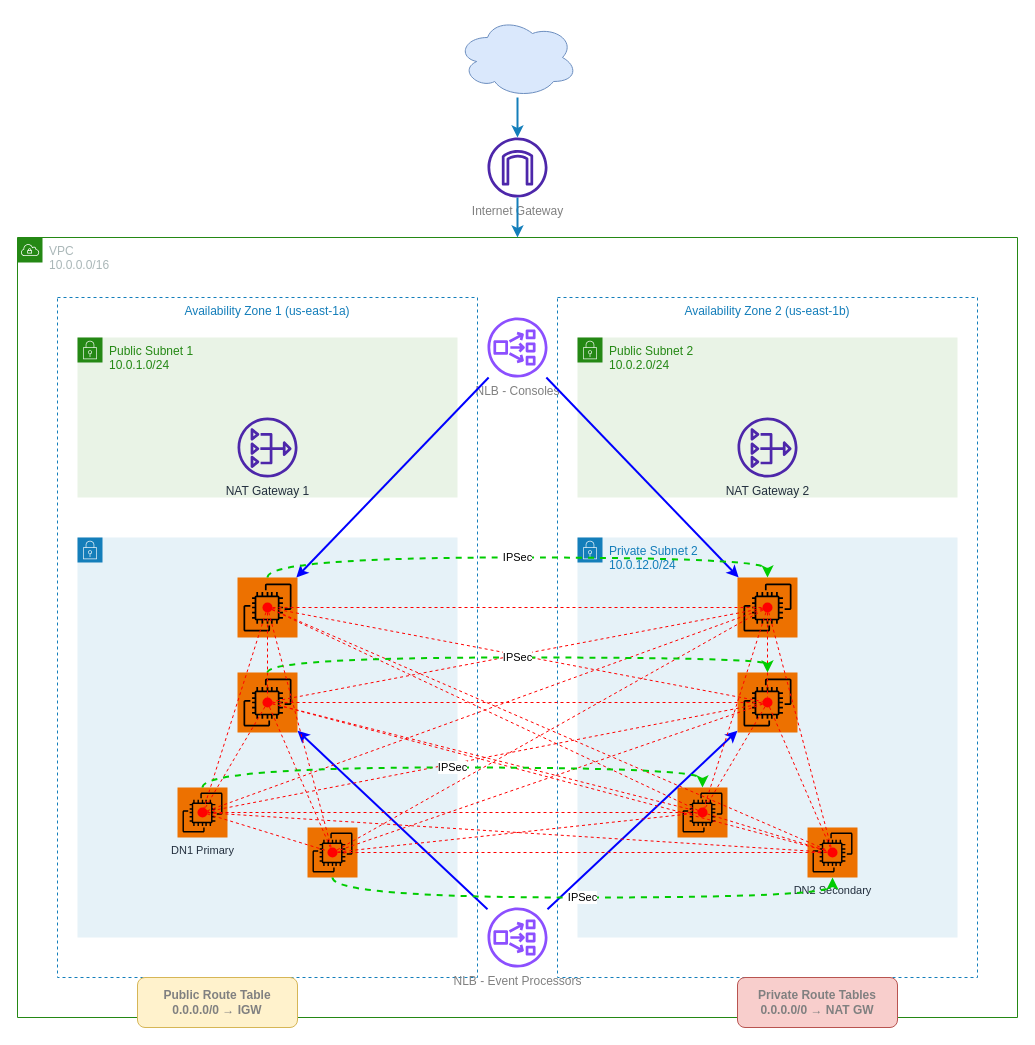
Image size: 1035x1045. Some labels were removed from this diagram. Here are the shapes that lost their labels. From the top down, the box of each, then its label:
(456, 16, 578, 98): Internet
(237, 577, 297, 637): Console Primary
(737, 577, 797, 637): Console Secondary
(237, 672, 297, 732): EP Primary
(737, 672, 797, 732): EP Secondary
(76, 536, 458, 938): Private Subnet 1 10.0.11.0/24
(677, 787, 727, 837): DN1 Secondary
(307, 827, 357, 877): DN2 Primary
